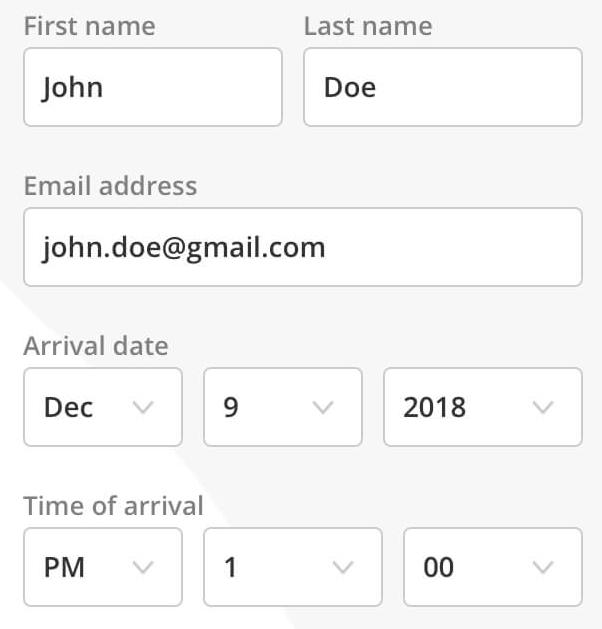field: (20, 204, 582, 289), (304, 44, 586, 129), (19, 43, 283, 128), (382, 367, 585, 448), (402, 526, 583, 608), (202, 526, 382, 608), (202, 367, 364, 449), (23, 526, 183, 607), (21, 367, 185, 446)
field_with_label: (16, 174, 588, 294), (299, 12, 590, 132), (15, 14, 286, 133), (16, 493, 197, 610), (17, 336, 188, 449)
